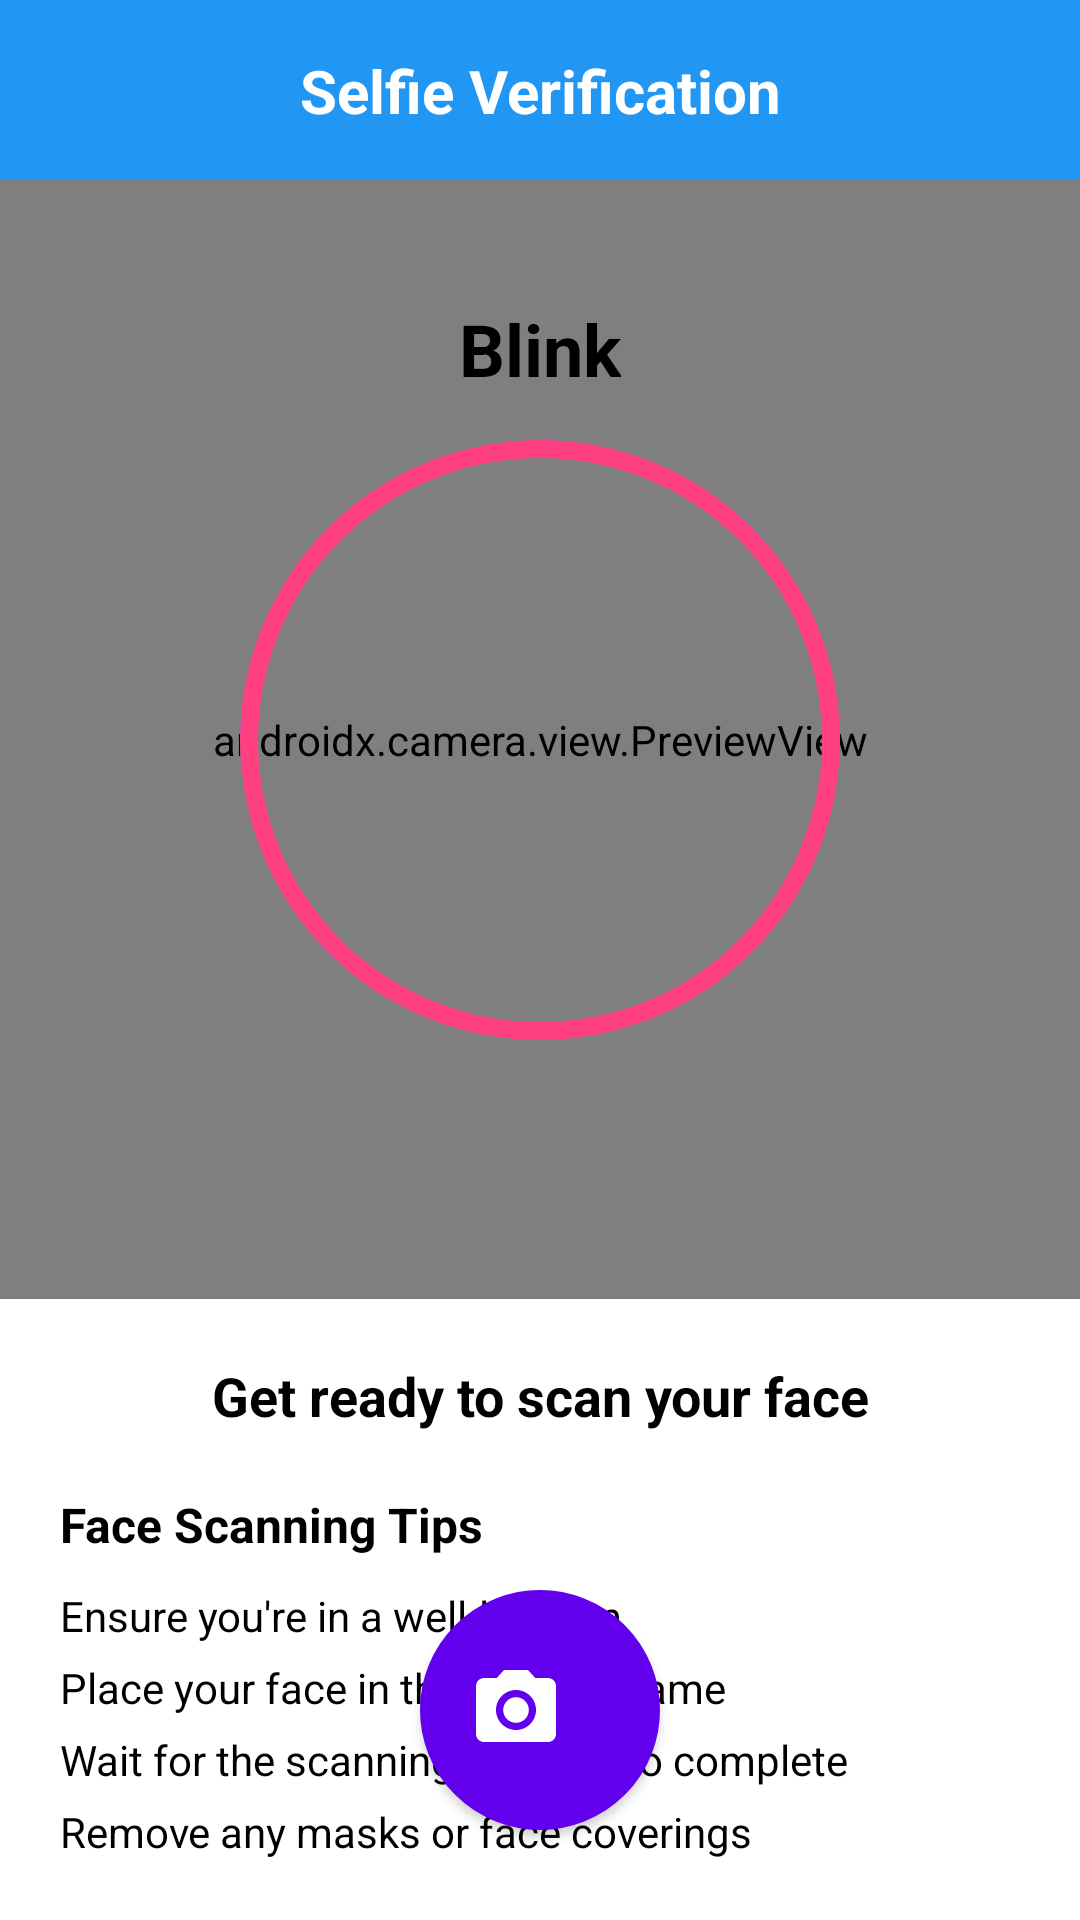

Locate icon controls on the screen. Image size 1080w x 1920h, boxes as [x1=x1, y1=y1, x2=x2, y2=y2].
camera: [x1=420, y1=1590, x2=660, y2=1830]
